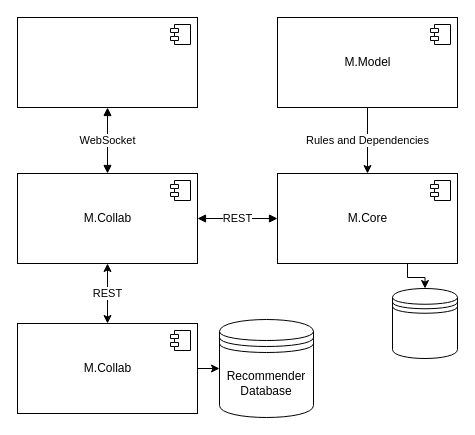
This 475x435 diagram has some shape labels left out. Here are the shapes that lost their labels. From the top down, the box of each, then its label:
(16, 16, 198, 108): M.Collab-Customer
(392, 288, 458, 358): Ruleset Database
